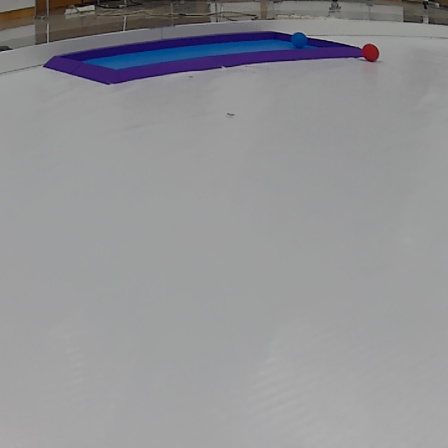blue: (290, 30, 309, 50)
blue_aim: (43, 29, 367, 86)
red: (360, 41, 383, 63)
